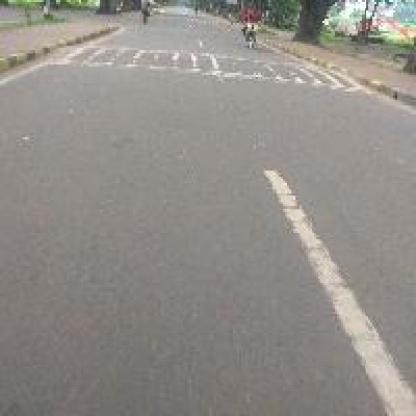Speed Bump: (44, 42, 374, 96)
